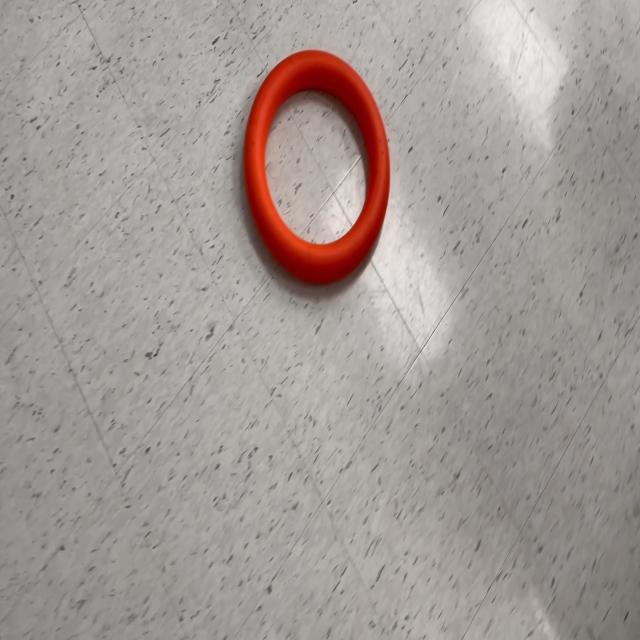note: (242, 48, 392, 290)
